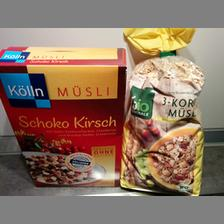Cerealien: (0, 45, 124, 185), (120, 26, 204, 196)
